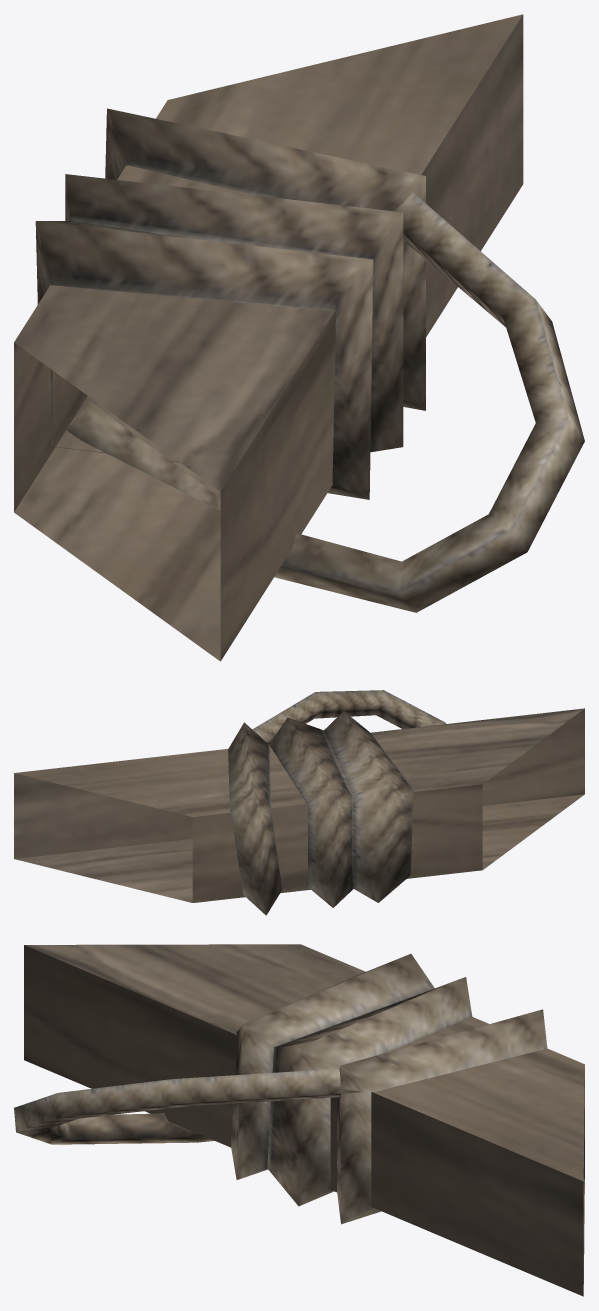
The model's file is Pillar_A_Support_B.fbx.
The picture shows the model from 3 angles, top to bottom: view 1: azimuth 30°, elevation 25°; view 2: azimuth 150°, elevation 25°; view 3: azimuth 270°, elevation 25°; orthographic projection. The views are drawn at different scales.
Parts seen in each view (by area): view 1: Pillar_A_Support_B; view 2: Pillar_A_Support_B; view 3: Pillar_A_Support_B.
Part boxes in pixels (x1=…): Pillar_A_Support_B: x1=14, y1=14, x2=584, y2=661; Pillar_A_Support_B: x1=14, y1=690, x2=584, y2=915; Pillar_A_Support_B: x1=14, y1=944, x2=584, y2=1296.
Size of the model in its own units: 0.7167 by 0.2385 by 0.7289.
